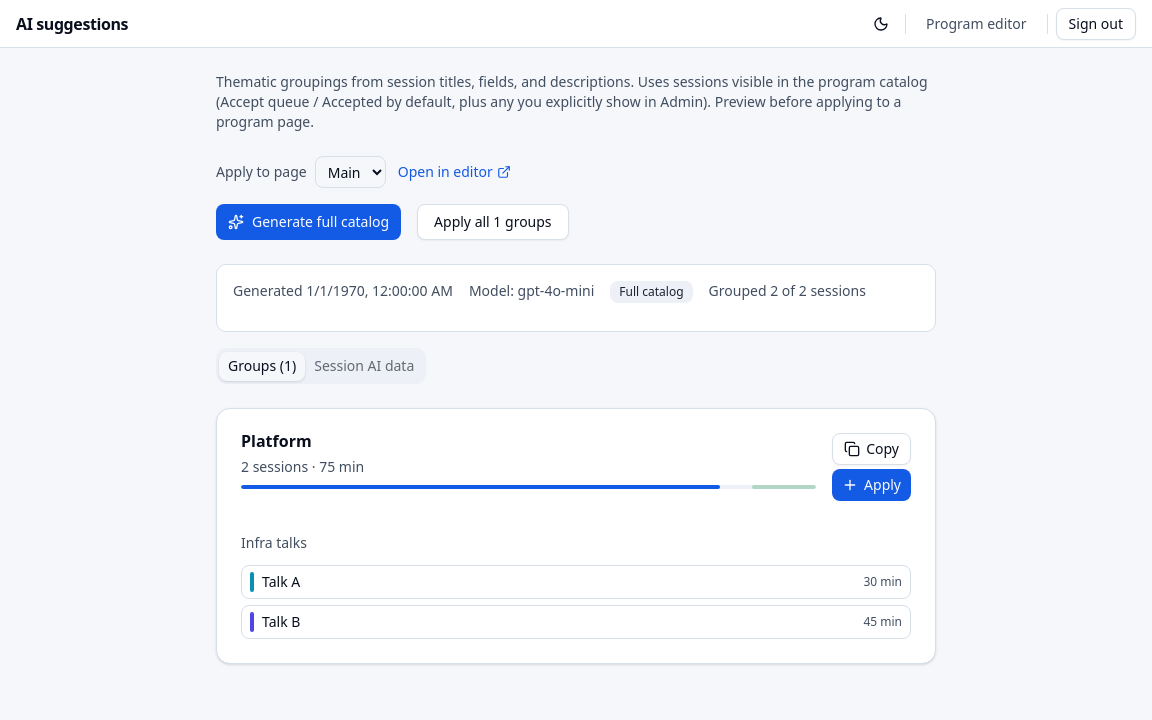
Test: SuggestionsPage › shows confirmation after copying a group
This screenshot has width=1152, height=720.
Click the button "Copy" at (872, 449), box [832, 433, 911, 465]
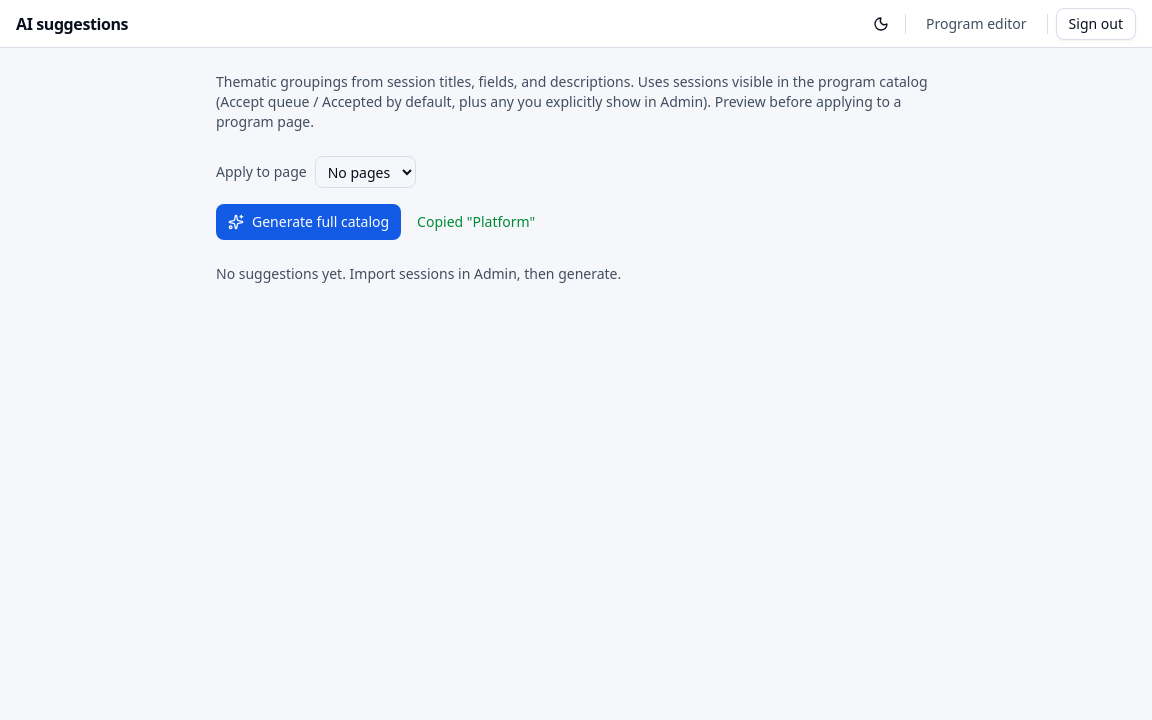
Check: the text "Copied \"Platform\"" is shown, box [417, 212, 535, 232]
